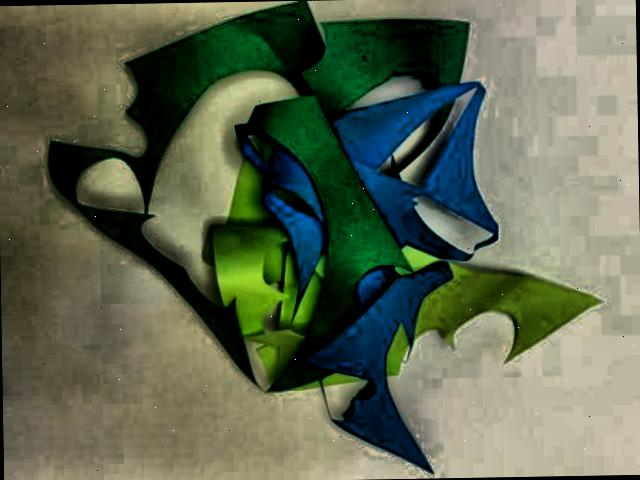Paper: (54, 0, 601, 480)
